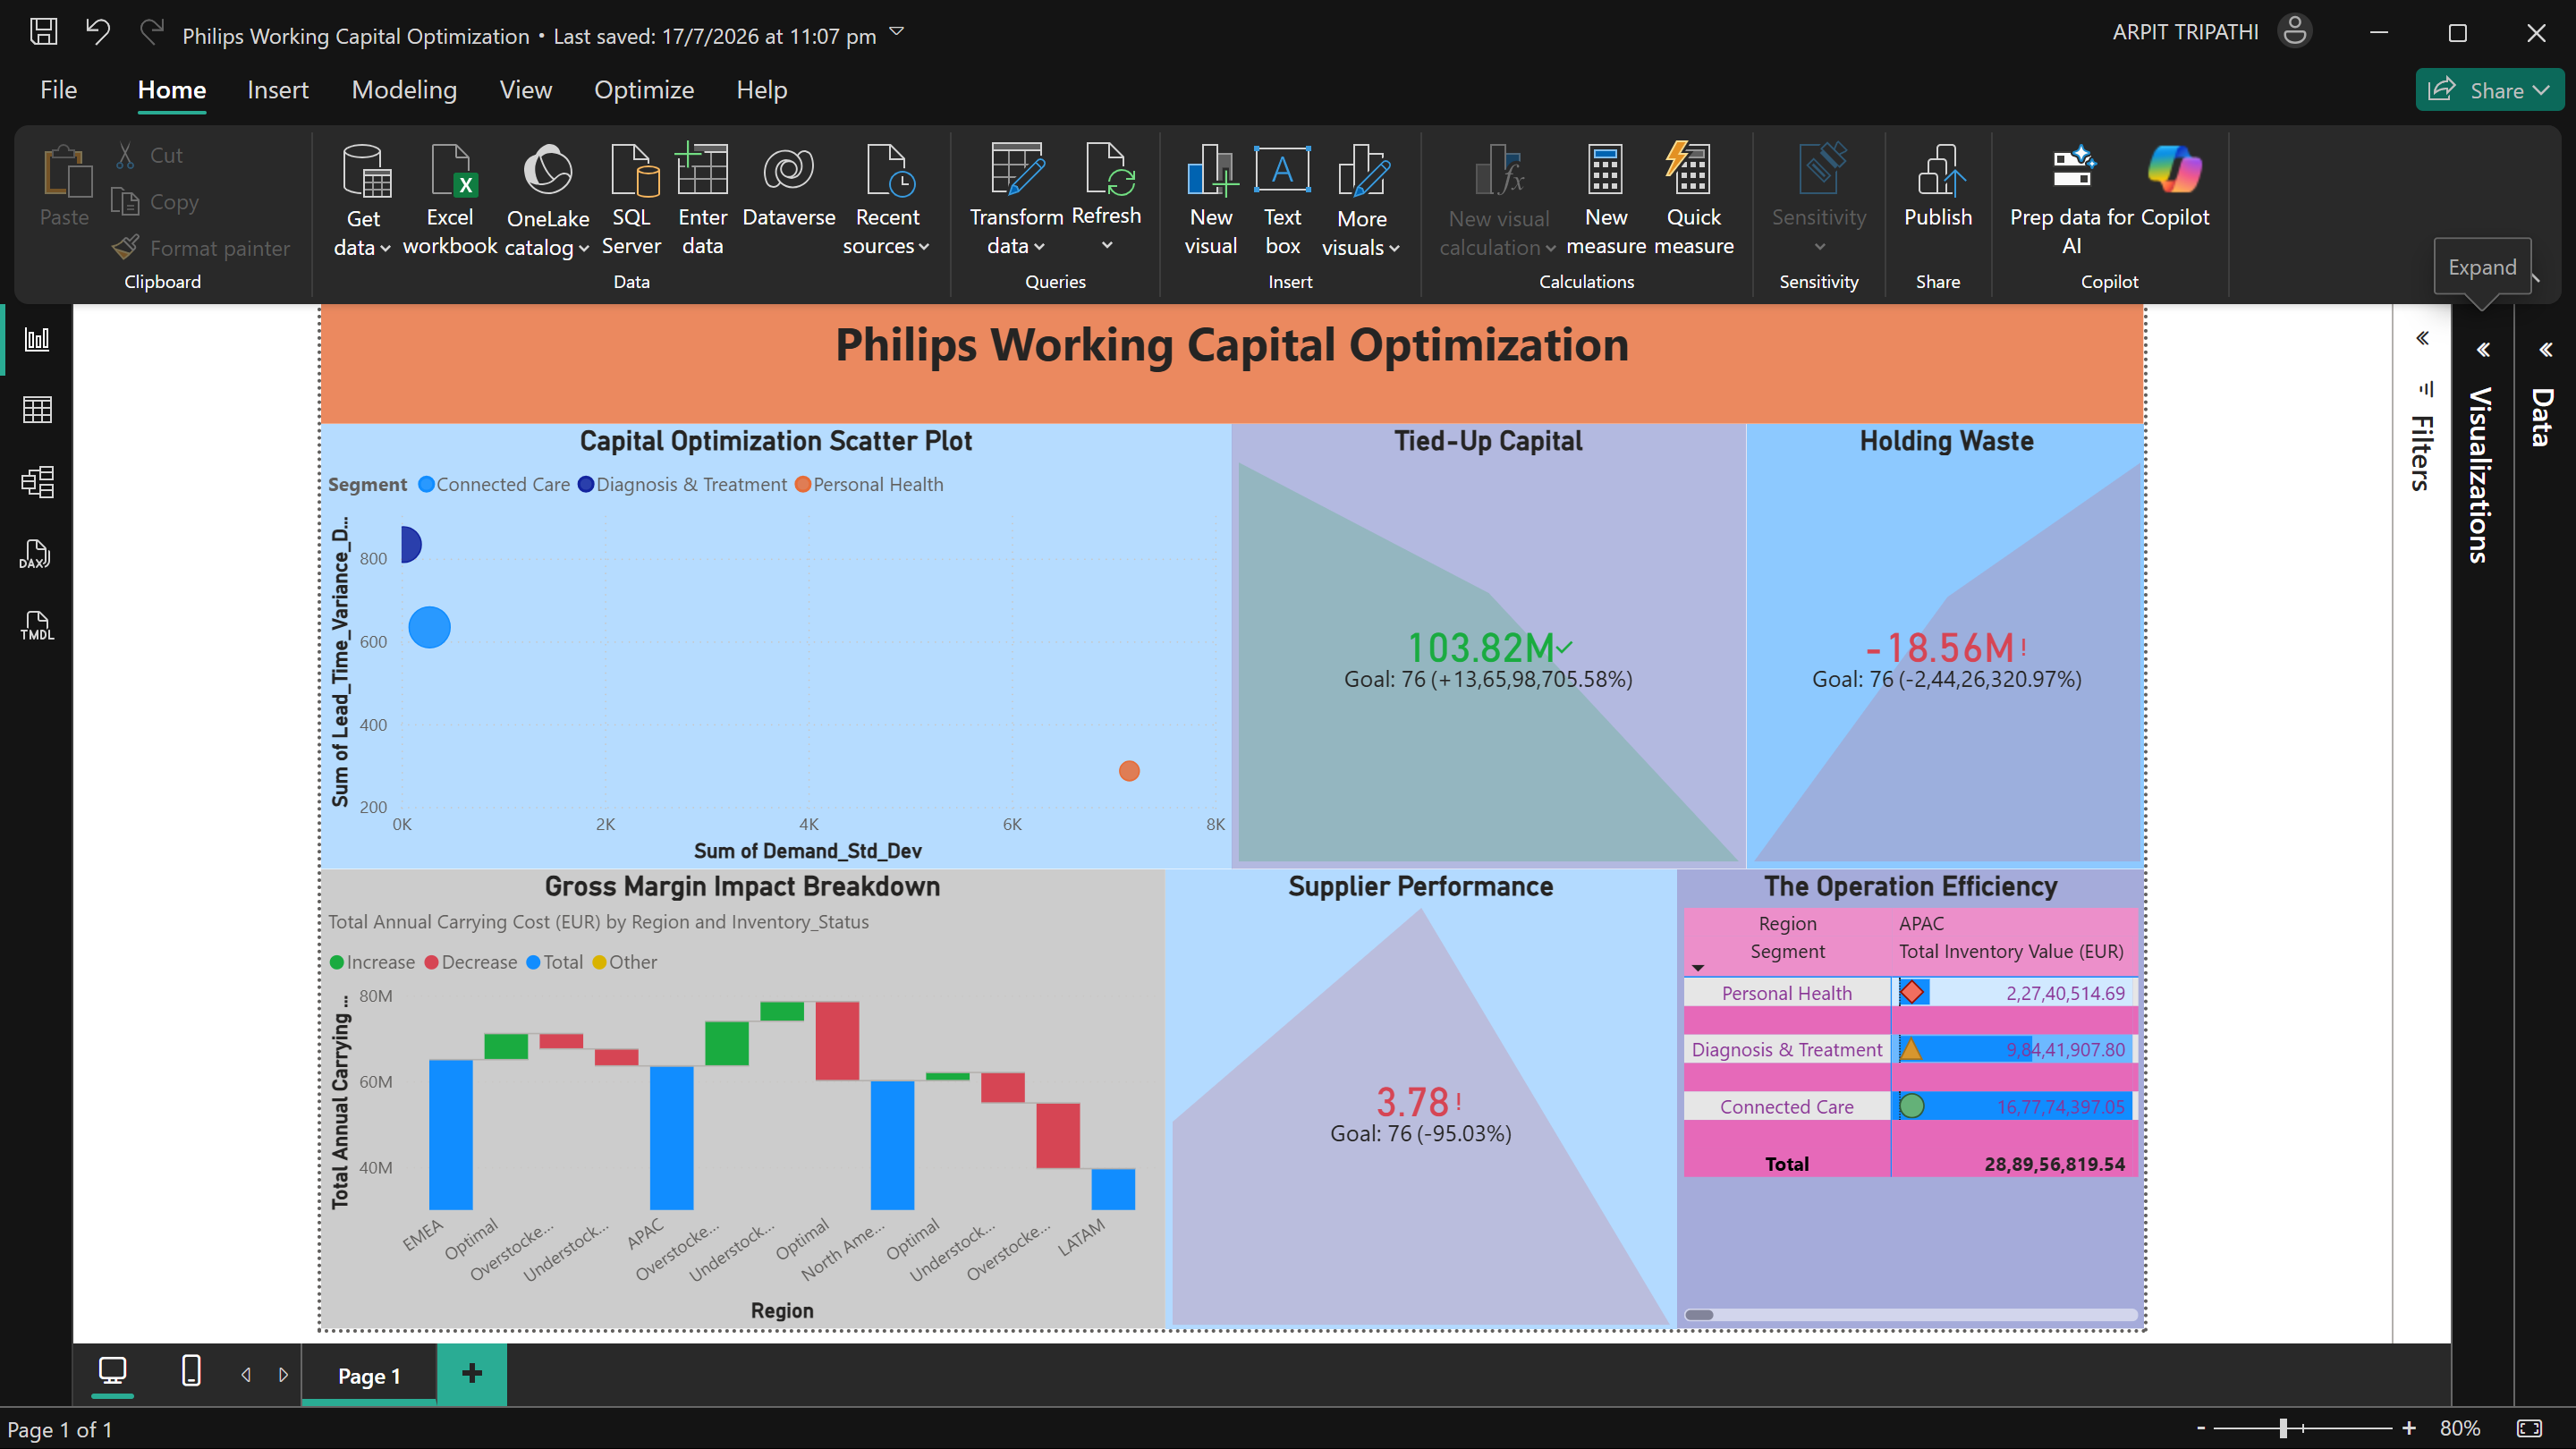

Layout of this report page (visuals, bound fields, positions):
{"tool":"powerbi","page":{"name":"Page 1","canvas":[1280,720],"ordinal":0},"visuals":[{"type":"scatterChart","title":"Capital Optimization Scatter Plot","fields":{"X":["Sum(Philips_Optimized_Inventory_Metrics.Demand_Std_Dev)"],"Y":["Sum(Philips_Optimized_Inventory_Metrics.Lead_Time_Variance_Days)"],"Size":["Sum(Philips_Optimized_Inventory_Metrics.Annual_Carrying_COst_EUR)"],"Series":["Philips_Optimized_Inventory_Metrics.Segment"]},"box":[0,84.2,640,312.3],"z":0},{"type":"waterfallChart","title":"Gross Margin Impact Breakdown","fields":{"Category":["Philips_Optimized_Inventory_Metrics.Region"],"Breakdown":["Philips_Optimized_Inventory_Metrics.Inventory_Status"],"Y":["Philips_Optimized_Inventory_Metrics.Total Annual Carrying Cost (EUR)"]},"box":[0,396.5,592.8,322.5],"z":1000},{"type":"kpi","title":"Tied-Up Capital","fields":{"Indicator":["Philips_Optimized_Inventory_Metrics.Total Inventory Value (EUR)"],"TrendLine":["Philips_Optimized_Inventory_Metrics.Segment"],"Goal":["CountNonNull(Philips_Optimized_Inventory_Metrics.Region)"]},"box":[640,84.2,361.3,312.3],"z":2000},{"type":"kpi","title":"Supplier Performance","fields":{"Indicator":["Philips_Optimized_Inventory_Metrics.Average Supplier Delay (Days)"],"TrendLine":["Philips_Optimized_Inventory_Metrics.Segment"],"Goal":["CountNonNull(Philips_Optimized_Inventory_Metrics.Region)"]},"box":[592.8,396.5,359.5,325.1],"z":3000},{"type":"kpi","title":"Holding Waste","fields":{"Indicator":["Philips_Optimized_Inventory_Metrics.Excess Capital Risk (EUR)"],"TrendLine":["Philips_Optimized_Inventory_Metrics.Segment"],"Goal":["CountNonNull(Philips_Optimized_Inventory_Metrics.Region)"]},"box":[1001.3,84.2,281.7,312.3],"z":4000},{"type":"actionButton","box":[0,0,100,40],"z":5000},{"type":"textbox","box":[0,0,1280,84.2],"z":6000},{"type":"pivotTable","title":"The Operation Efficiency","fields":{"Rows":["Philips_Optimized_Inventory_Metrics.Segment"],"Columns":["Philips_Optimized_Inventory_Metrics.Region"],"Values":["Philips_Optimized_Inventory_Metrics.Total Inventory Value (EUR)","Philips_Optimized_Inventory_Metrics.Excess Capital Risk (EUR)","Philips_Optimized_Inventory_Metrics.Average Supplier Delay (Days)"]},"box":[952.4,396.5,328.9,322.5],"z":7000}]}

Visuals, with their boxes on the page's 1280x720 design canvas (x1, y1, x2, y2). These are canvas units, not pixel positions in the 2576x1449 screenshot, which may show the page scaled, cropped or inside an application window:
"Capital Optimization Scatter Plot" scatterChart: bbox(0, 84, 640, 396)
"Gross Margin Impact Breakdown" waterfallChart: bbox(0, 396, 593, 719)
"Tied-Up Capital" kpi: bbox(640, 84, 1001, 396)
"Supplier Performance" kpi: bbox(593, 396, 952, 722)
"Holding Waste" kpi: bbox(1001, 84, 1283, 396)
actionButton: bbox(0, 0, 100, 40)
textbox: bbox(0, 0, 1280, 84)
"The Operation Efficiency" pivotTable: bbox(952, 396, 1281, 719)
